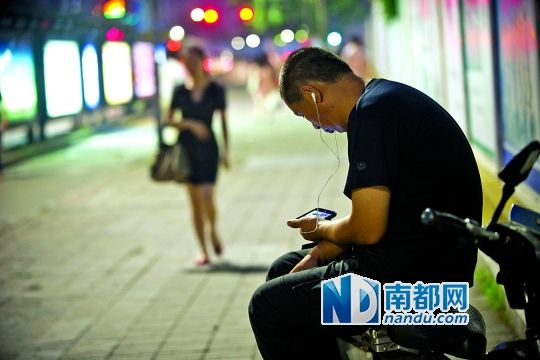reading: (283, 202, 342, 243)
